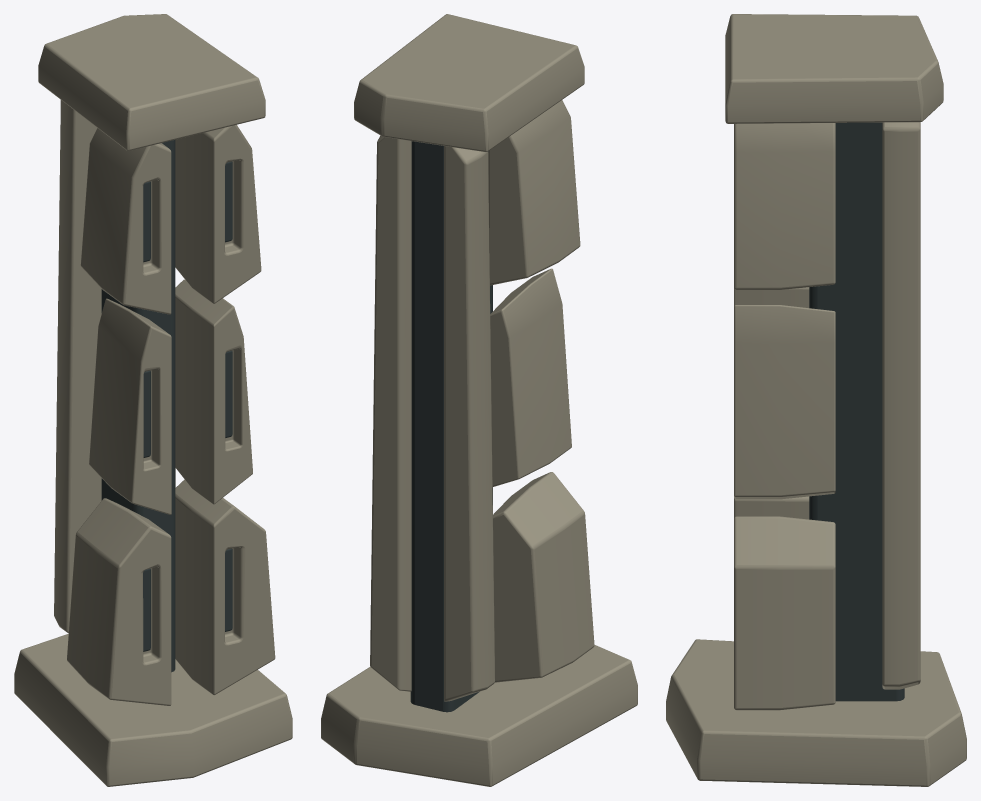
File: threshold_jamb_lod2.glb
The picture shows the model from 3 angles, left to right: view 1: azimuth 30°, elevation 25°; view 2: azimuth 150°, elevation 25°; view 3: azimuth 270°, elevation 25°; orthographic projection. The views are drawn at different scales.
Visible parts, largest first — view 1: LOD2_ancient, LOD2_substrate; view 2: LOD2_ancient, LOD2_substrate; view 3: LOD2_ancient, LOD2_substrate.
Boxes of the visible parts, <box> form: LOD2_ancient: <box>14,14,292,786</box>; LOD2_substrate: <box>101,140,232,672</box>; LOD2_ancient: <box>321,14,637,786</box>; LOD2_substrate: <box>410,141,492,712</box>; LOD2_ancient: <box>666,14,966,786</box>; LOD2_substrate: <box>809,122,904,701</box>.
Size of the model in its own units: 1.16 by 3.6 by 1.42.
